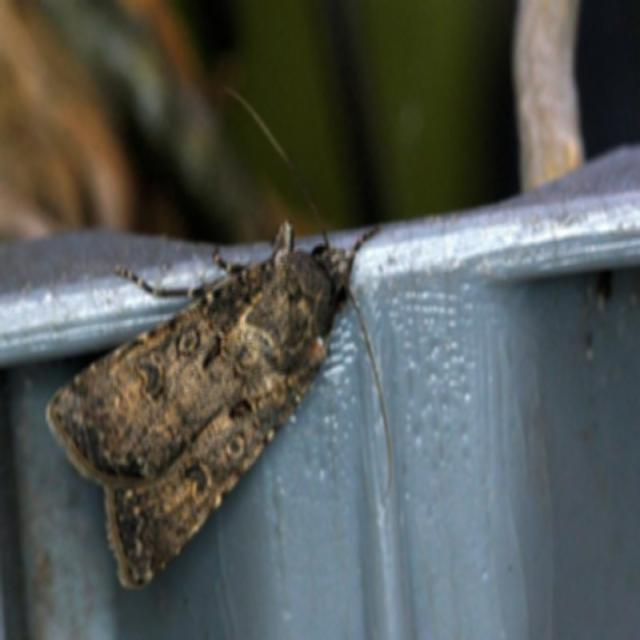black cutworm: (47, 219, 373, 587)
